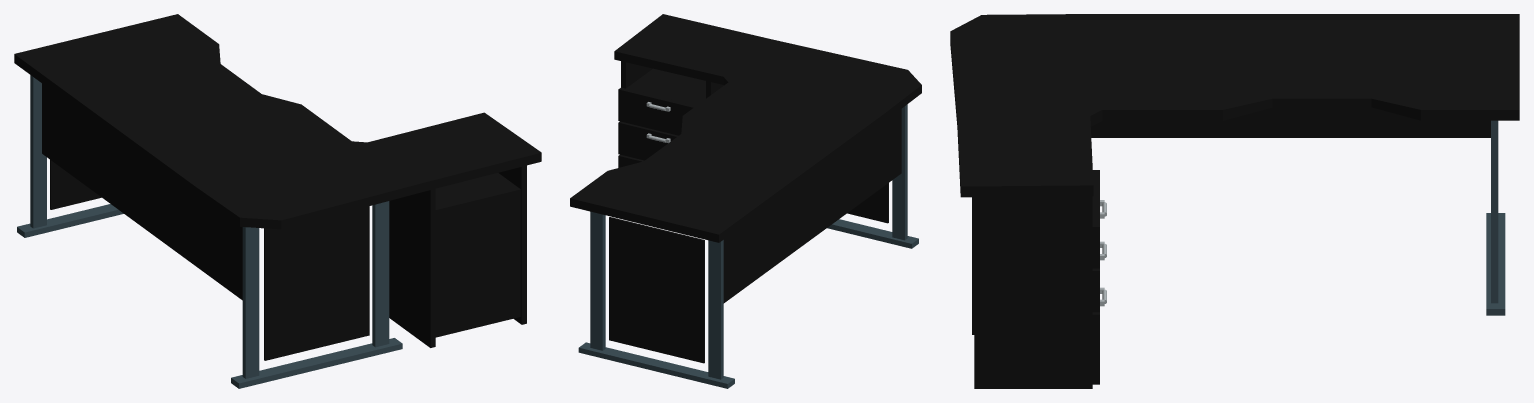
3 views of the same model, side by side, from view 1: azimuth 30°, elevation 25°; view 2: azimuth 150°, elevation 25°; view 3: azimuth 270°, elevation 25° (orthographic). The views are drawn at different scales.
Parts seen in each view (by area): view 1: node_MeshObject161557952-PolyPaper23; view 2: node_MeshObject161557952-PolyPaper23; view 3: node_MeshObject161557952-PolyPaper23.
Part boxes in pixels (<box>): node_MeshObject161557952-PolyPaper23: <box>14,14,541,388</box>; node_MeshObject161557952-PolyPaper23: <box>570,14,921,388</box>; node_MeshObject161557952-PolyPaper23: <box>950,14,1519,388</box>.
Size of the model in its own units: 1.71 by 0.9499 by 2.36.
